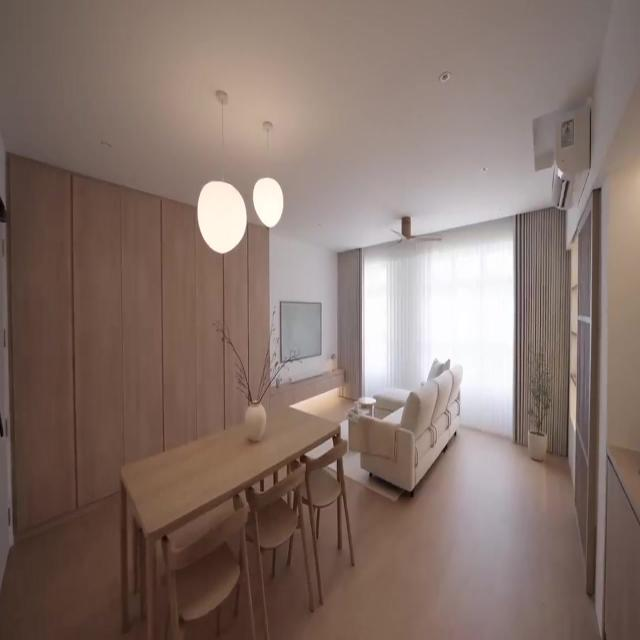obstacle: (119, 404, 341, 638), (353, 361, 463, 498)
